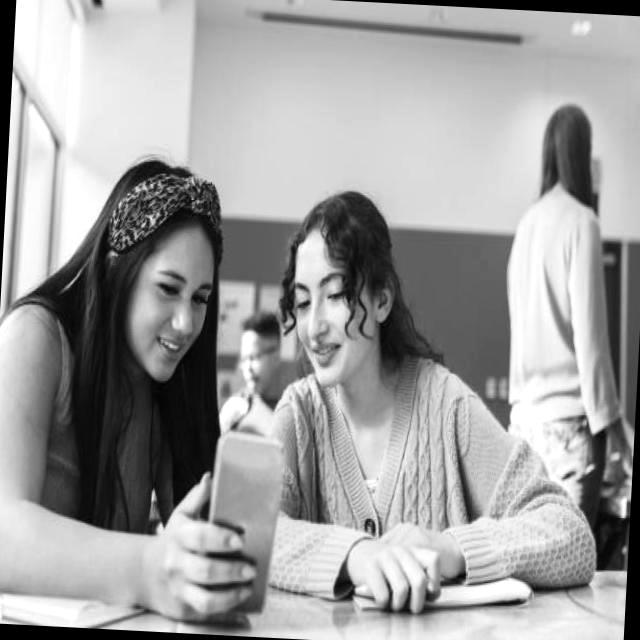phone: (201, 428, 287, 614)
